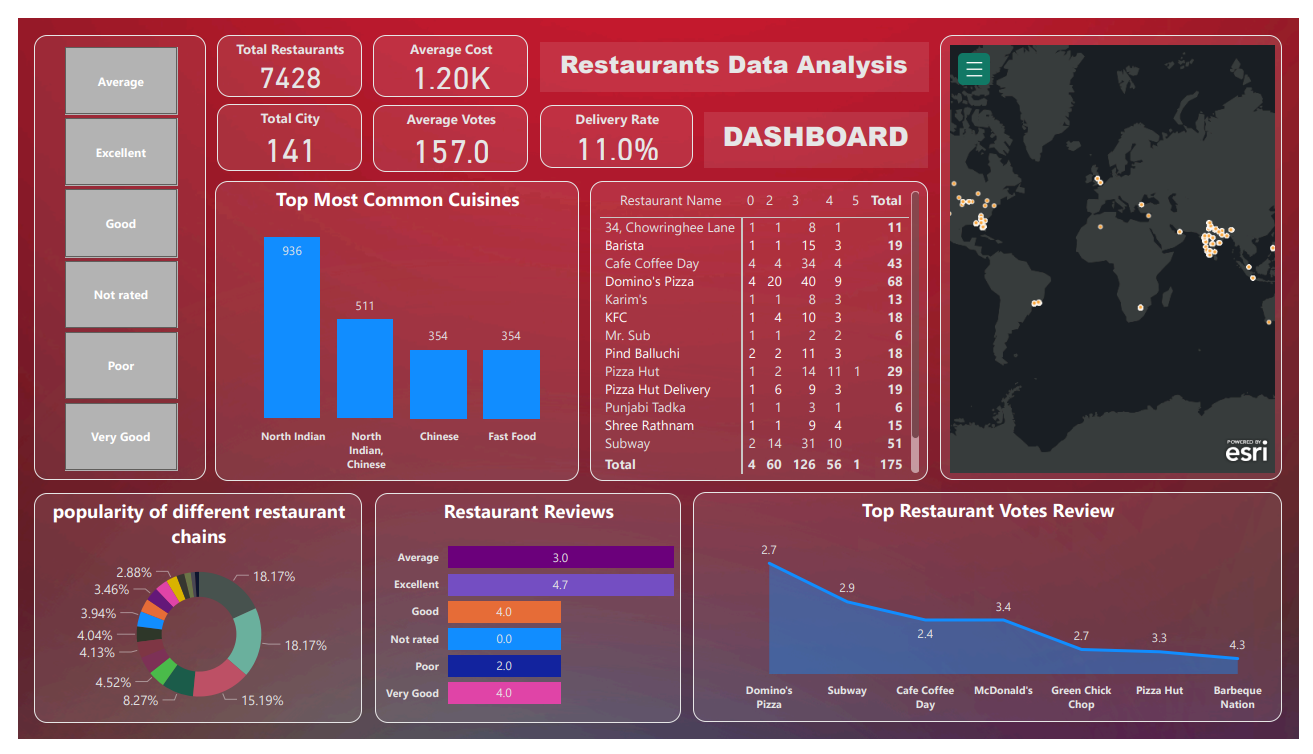

The dashboard page shown, as its layout file describes it:
{"tool":"powerbi","page":{"name":"Page 1","canvas":[1280,720],"ordinal":0},"visuals":[{"type":"card","title":"Total Restaurants","fields":{"Values":["Count(cognifyz_datasets.Restaurant Name)"]},"box":[199.3,17.1,144.3,62.4],"z":0},{"type":"card","title":"Average Cost","fields":{"Values":["Avg(cognifyz_datasets.Average Cost for two)"]},"box":[354.6,17.1,155.3,62.4],"z":1000},{"type":"card","title":"Total City","fields":{"Values":["Count(cognifyz_datasets.City)"]},"box":[199.3,85.6,144.3,67.3],"z":2000},{"type":"pivotTable","title":"Top Most Common Cuisines","fields":{"Rows":["cognifyz_datasets.Restaurant Name"],"Columns":["cognifyz_datasets.Aggregate rating"],"Values":["Count(cognifyz_datasets.Votes)"]},"box":[572.4,163.1,337.9,300],"z":3000},{"type":"card","title":"Delivery Rate","fields":{"Values":["cognifyz_datasets.%with delivery"]},"box":[522.1,86.8,152.8,63.6],"z":4000},{"type":"esriVisual","fields":{"Location":["cognifyz_datasets.City"],"Latitude":["cognifyz_datasets.Latitude"],"Longitude":["cognifyz_datasets.Longitude"],"Size":["Count(cognifyz_datasets.Restaurant Name)"]},"box":[922,17.1,342.4,445.1],"z":5000},{"type":"card","title":"Average Votes","fields":{"Values":["Avg(cognifyz_datasets.Votes)"]},"box":[354.6,86.8,155.3,67.3],"z":6000},{"type":"columnChart","title":"Top Most Common Cuisines","fields":{"Category":["cognifyz_datasets.Cuisines"],"Y":["CountNonNull(cognifyz_datasets.Restaurant Name)"]},"box":[196.6,163.1,364.1,300],"z":7000},{"type":"donutChart","title":"popularity of different restaurant chains","fields":{"Category":["cognifyz_datasets.Restaurant Name"],"Y":["Sum(cognifyz_datasets.Ratingcount)"]},"box":[16,474.8,327.7,230.1],"z":8000},{"type":"barChart","title":"Restaurant Reviews","fields":{"Category":["cognifyz_datasets.Rating text"],"Y":["Count(cognifyz_datasets.Aggregate rating)"],"Series":["cognifyz_datasets.Ratingcount"]},"box":[356.9,474.8,305.9,230.1],"z":9000},{"type":"areaChart","title":"Top Restaurant Votes Review","fields":{"Category":["cognifyz_datasets.Restaurant Name"],"Y":["Count(cognifyz_datasets.Votes)"]},"box":[675,474.4,589.4,229.9],"z":10000},{"type":"slicer","title":"Top Most Common Cuisines","fields":{"Values":["cognifyz_datasets.Rating text"]},"box":[15.9,17.1,172.4,445.1],"z":11000},{"type":"textbox","box":[522.1,24.5,387.6,48.9],"z":12000},{"type":"textbox","box":[686,94.2,223.8,56.2],"z":13000}]}

Visuals, with their boxes in screenshot pixels (x1, y1, x2, y2), scaled from the page's 1280x720 canvas onto the 1313x754 screenshot:
"Total Restaurants" card: (left=204, top=18, right=352, bottom=83)
"Average Cost" card: (left=364, top=18, right=523, bottom=83)
"Total City" card: (left=204, top=90, right=352, bottom=160)
"Top Most Common Cuisines" pivotTable: (left=587, top=171, right=934, bottom=485)
"Delivery Rate" card: (left=536, top=91, right=692, bottom=158)
esriVisual - cognifyz_datasets.City x cognifyz_datasets.Latitude: (left=946, top=18, right=1297, bottom=484)
"Average Votes" card: (left=364, top=91, right=523, bottom=161)
"Top Most Common Cuisines" columnChart: (left=202, top=171, right=575, bottom=485)
"popularity of different restaurant chains" donutChart: (left=16, top=497, right=353, bottom=738)
"Restaurant Reviews" barChart: (left=366, top=497, right=680, bottom=738)
"Top Restaurant Votes Review" areaChart: (left=692, top=497, right=1297, bottom=738)
"Top Most Common Cuisines" slicer: (left=16, top=18, right=193, bottom=484)
textbox: (left=536, top=26, right=933, bottom=77)
textbox: (left=704, top=99, right=933, bottom=158)
